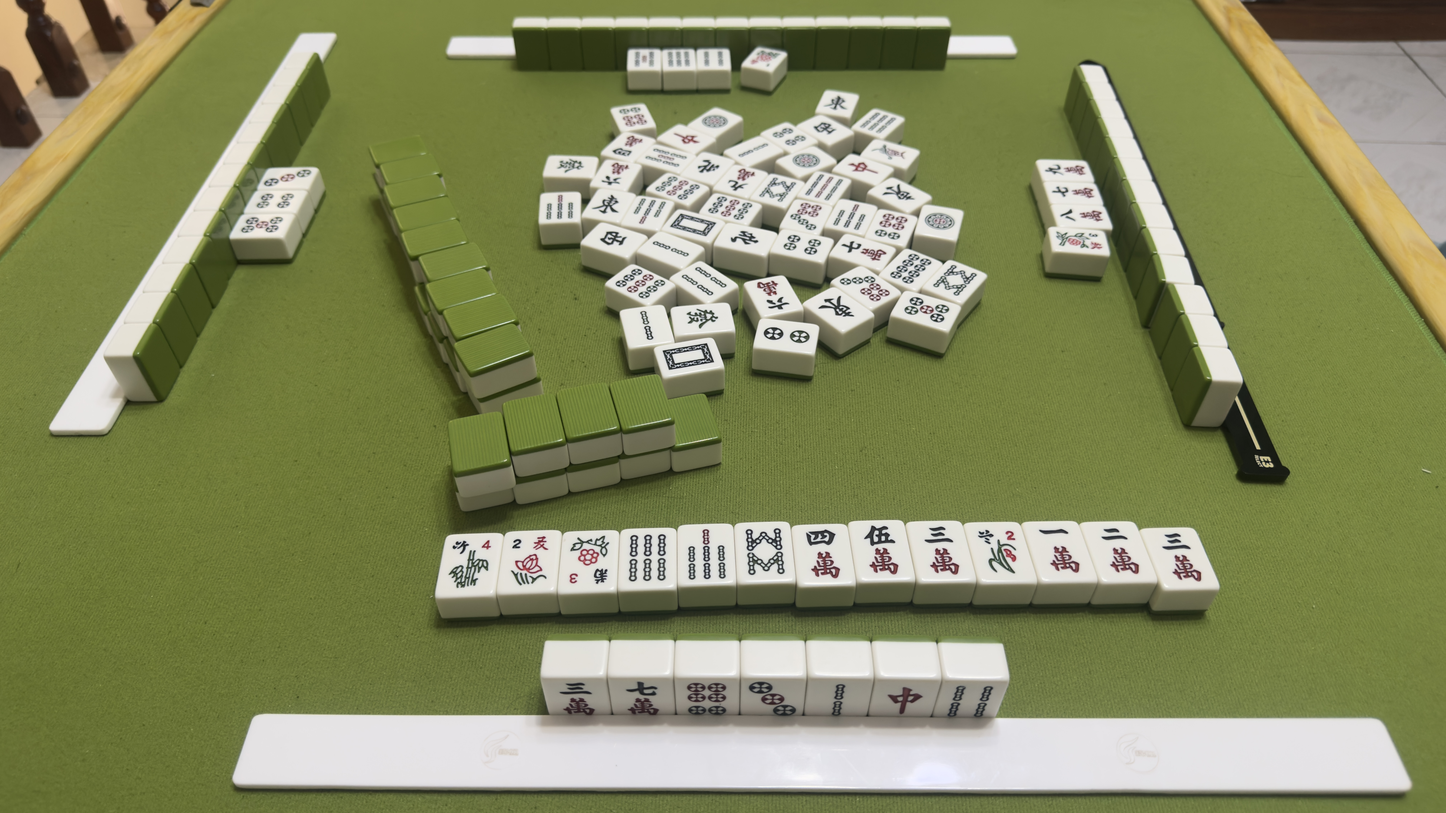hand_autumn: (619, 678, 667, 717)
hand_b6: (744, 680, 802, 716)
hand_b9: (685, 680, 729, 716)
hand_d9: (879, 681, 927, 717)
hand_green: (551, 676, 605, 717)
hand_w3: (813, 680, 863, 717)
hand_w5: (947, 680, 992, 718)
table_autumn: (840, 237, 885, 262), (1046, 184, 1099, 202)
table_b1: (833, 203, 867, 229), (808, 173, 840, 198)
table_b2: (450, 538, 495, 592)
table_b3: (566, 533, 610, 589)
table_b4: (922, 207, 957, 233), (788, 152, 824, 169), (701, 114, 729, 130)
table_b7: (251, 191, 297, 212), (262, 169, 314, 187), (780, 232, 820, 254), (772, 126, 808, 146)
table_b8: (903, 294, 948, 324), (234, 213, 286, 238)
table_b9: (876, 212, 908, 239), (611, 107, 650, 129)
table_bamboo: (664, 339, 712, 374), (671, 214, 714, 235)
table_d1: (837, 274, 888, 302), (790, 204, 823, 230)
table_d2: (891, 249, 931, 282)
table_d3: (610, 267, 666, 300), (653, 175, 699, 200), (708, 198, 752, 222)
table_d4: (817, 294, 856, 322), (882, 181, 917, 203), (596, 192, 620, 217), (824, 89, 850, 111)
table_d5: (681, 304, 722, 331), (550, 155, 586, 174)
table_d6: (726, 227, 761, 248), (695, 159, 721, 176)
table_d7: (969, 525, 1026, 581)
table_d9: (668, 128, 701, 148), (845, 159, 879, 177)
table_green: (1155, 529, 1210, 589), (910, 523, 964, 581)
table_north: (1033, 522, 1083, 578)
table_orchid: (600, 226, 627, 250), (812, 119, 839, 137)
table_plum: (1038, 161, 1088, 180), (726, 168, 755, 191)
table_red: (1095, 524, 1142, 578)
table_spring: (850, 523, 904, 578)
table_summer: (753, 278, 793, 313), (762, 323, 810, 349), (600, 163, 629, 186)
table_w1: (1051, 228, 1104, 252)
table_w2: (868, 140, 910, 162)
table_w3: (653, 237, 692, 262), (636, 309, 657, 341)
table_w5: (679, 263, 725, 296), (700, 51, 727, 68)
table_w6: (643, 146, 689, 168), (729, 143, 773, 156), (631, 51, 656, 70)
table_w7: (623, 531, 673, 587), (860, 108, 897, 137), (665, 51, 693, 70)
table_w8: (679, 528, 732, 581), (633, 196, 664, 226), (543, 193, 575, 222)
table_w9: (737, 526, 791, 579), (938, 259, 975, 296), (760, 175, 794, 201)
table_west: (507, 534, 554, 590)
table_white: (794, 525, 848, 585), (612, 136, 643, 157)
table_winter: (1055, 205, 1106, 225)
